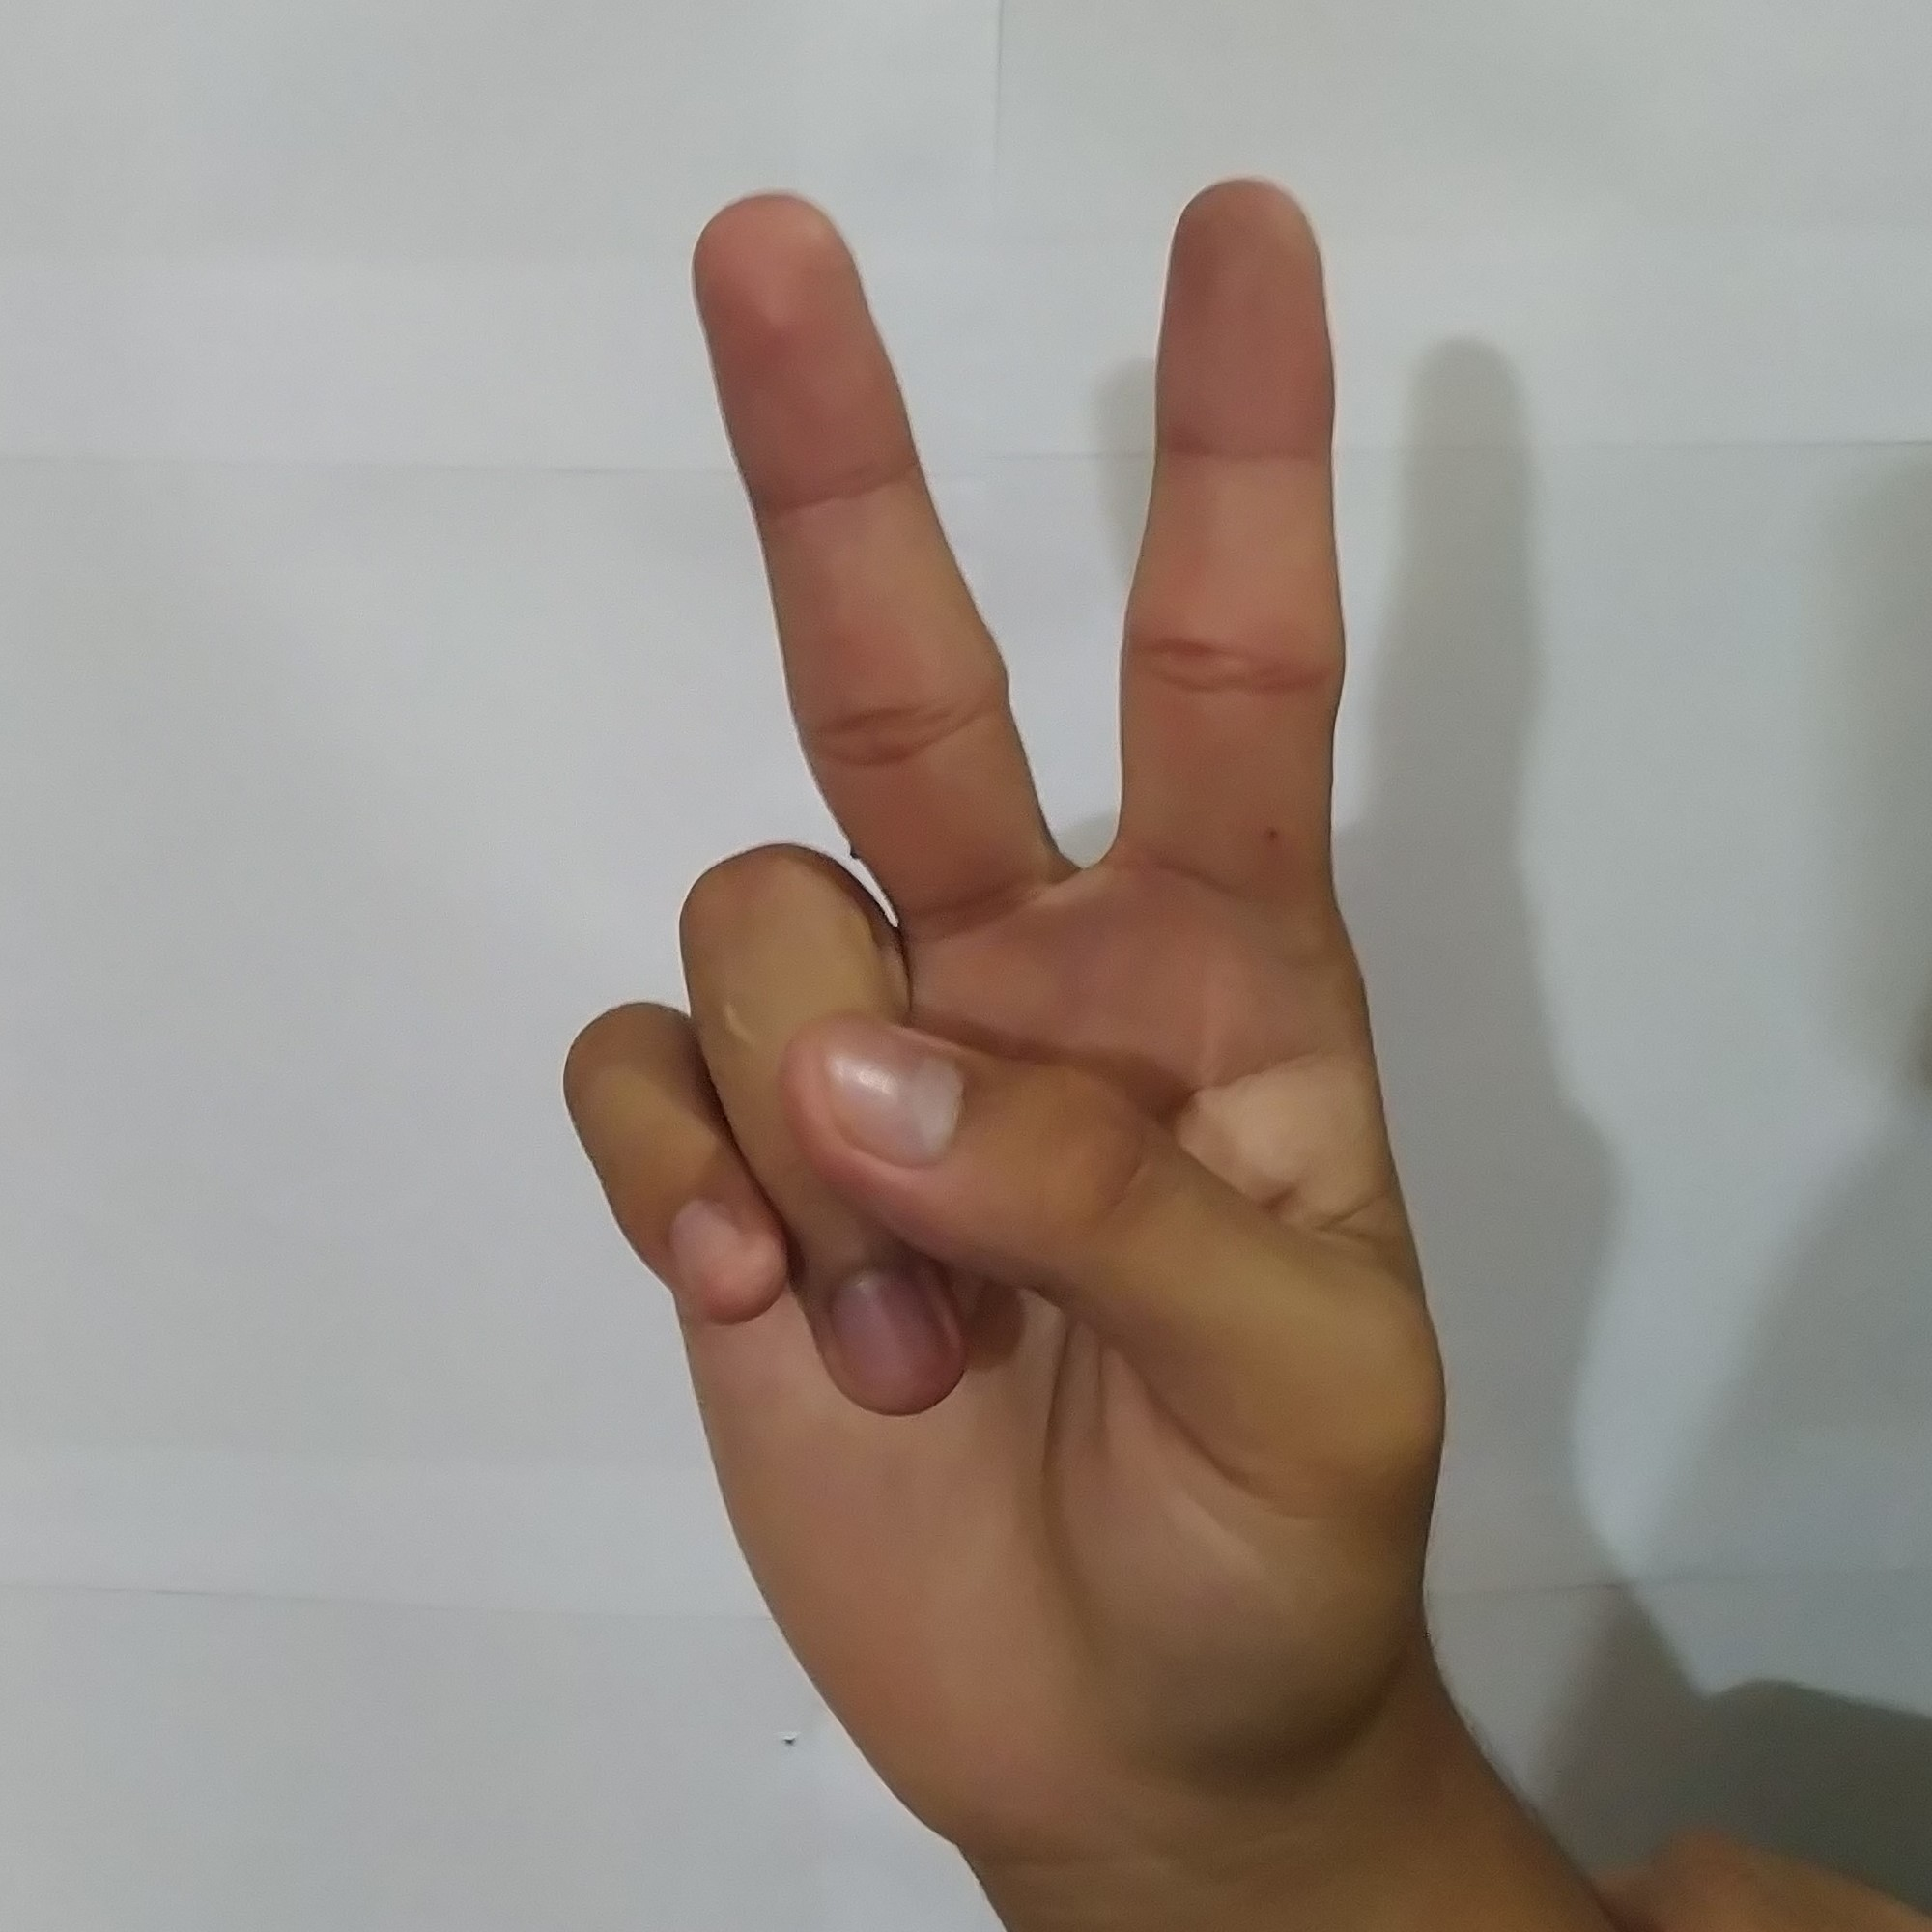V: (533, 136, 1504, 1789)
